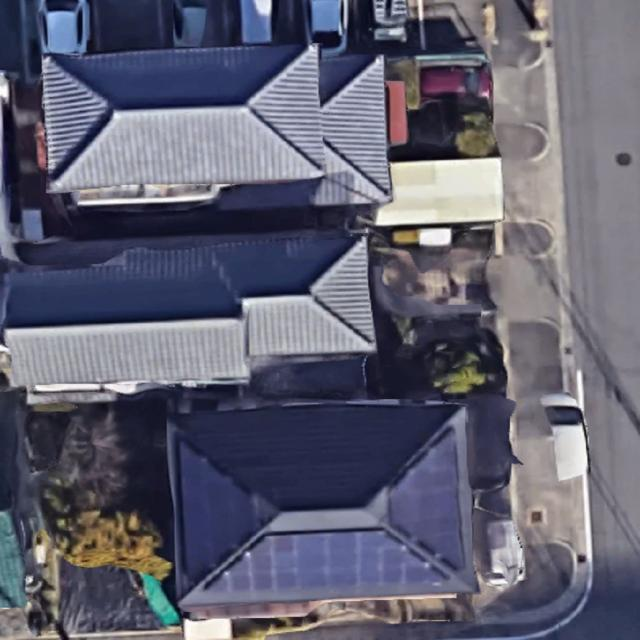Batiment: (168, 404, 477, 616), (3, 234, 375, 389), (43, 45, 390, 209)
